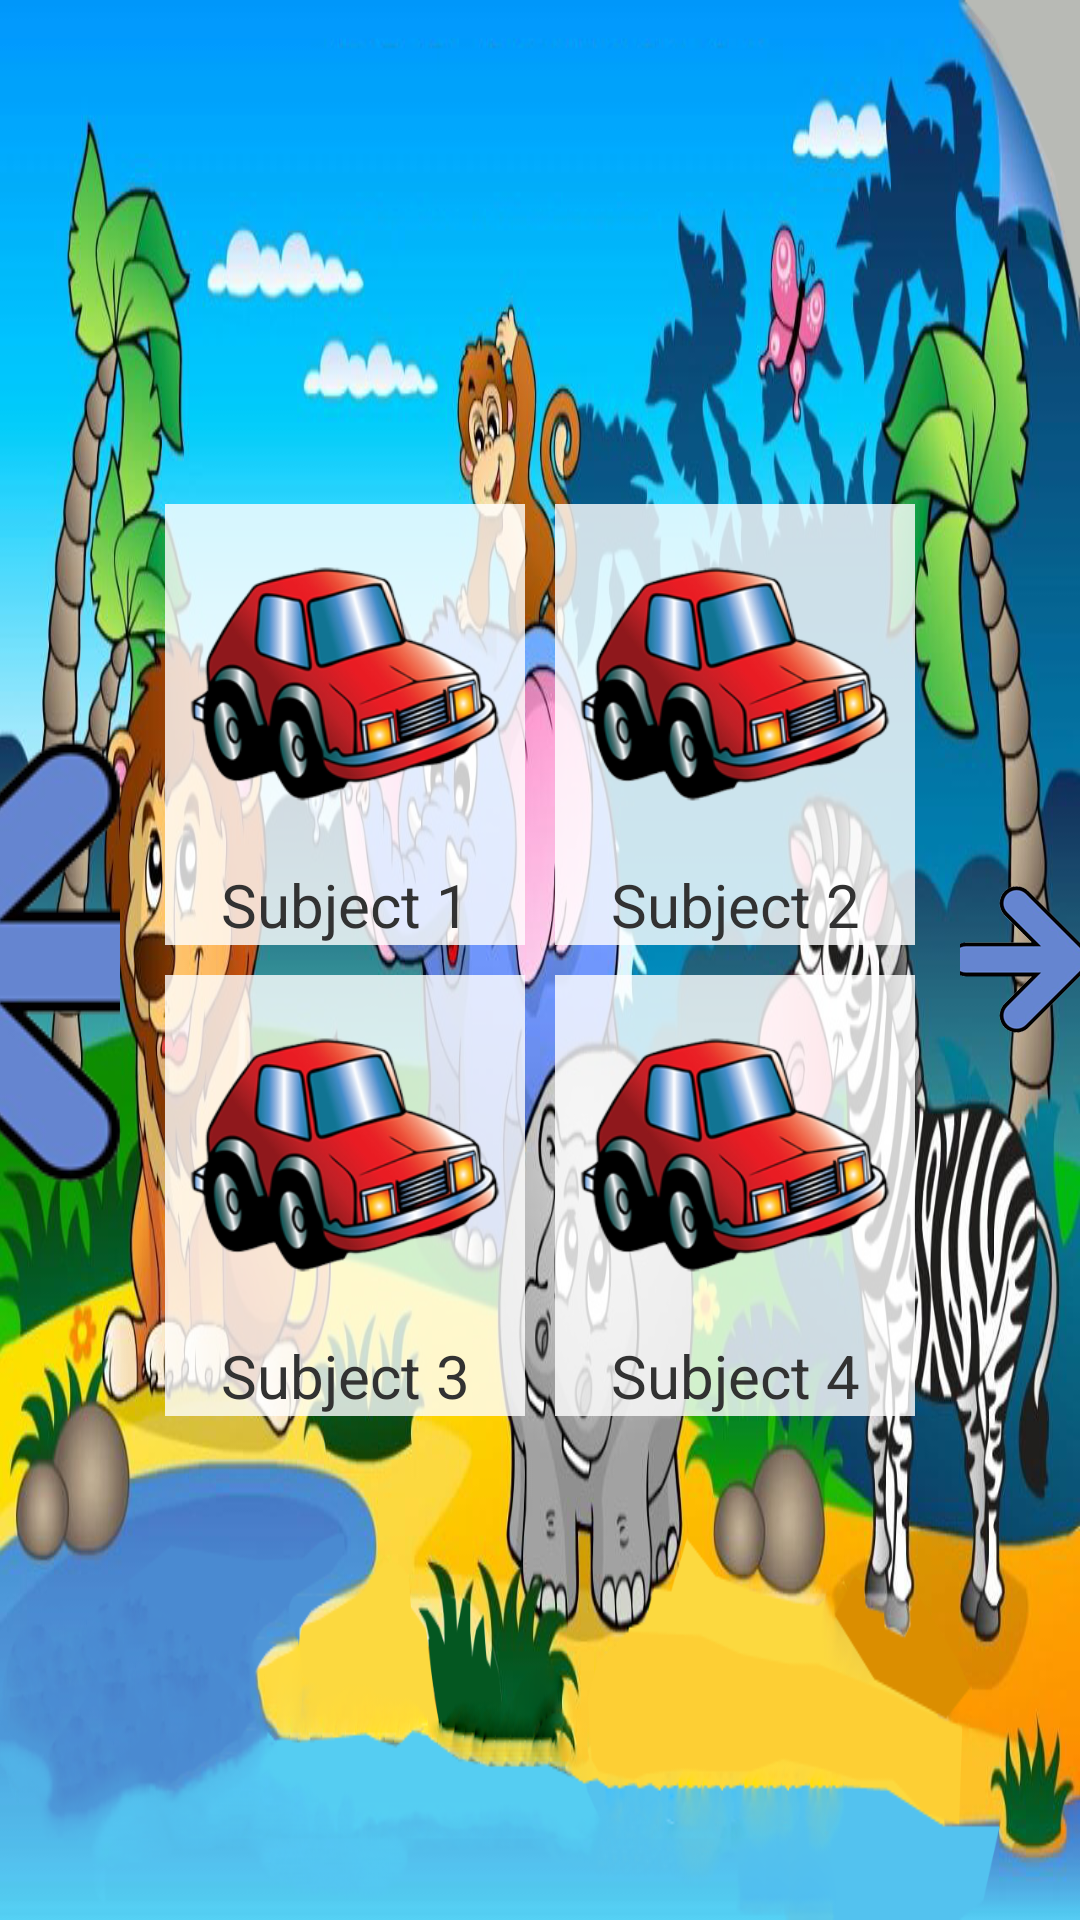

Screen size 1080w x 1920h. Icon name, then its center in pixels as [x,y]:
right arrow: [1020,960]
subject car: [345,684], [735,684], [345,1155], [735,1155]
